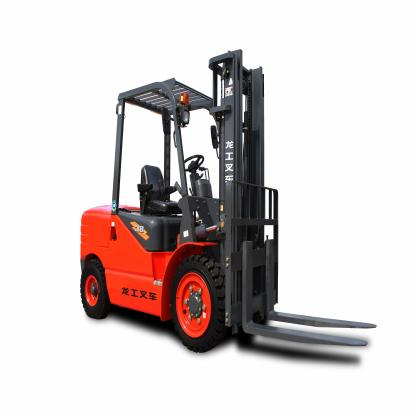forklift: (78, 47, 377, 353)
